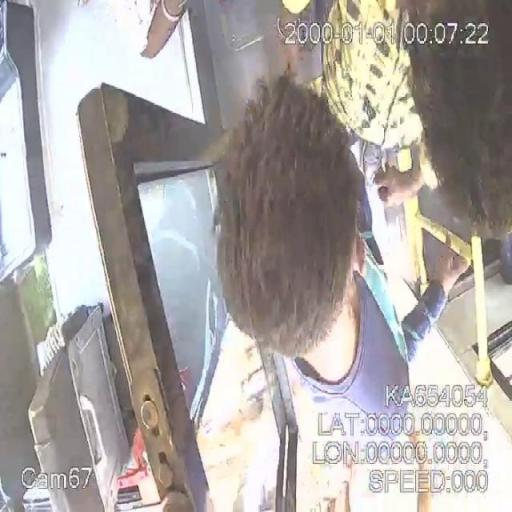persona: (212, 75, 472, 511)
